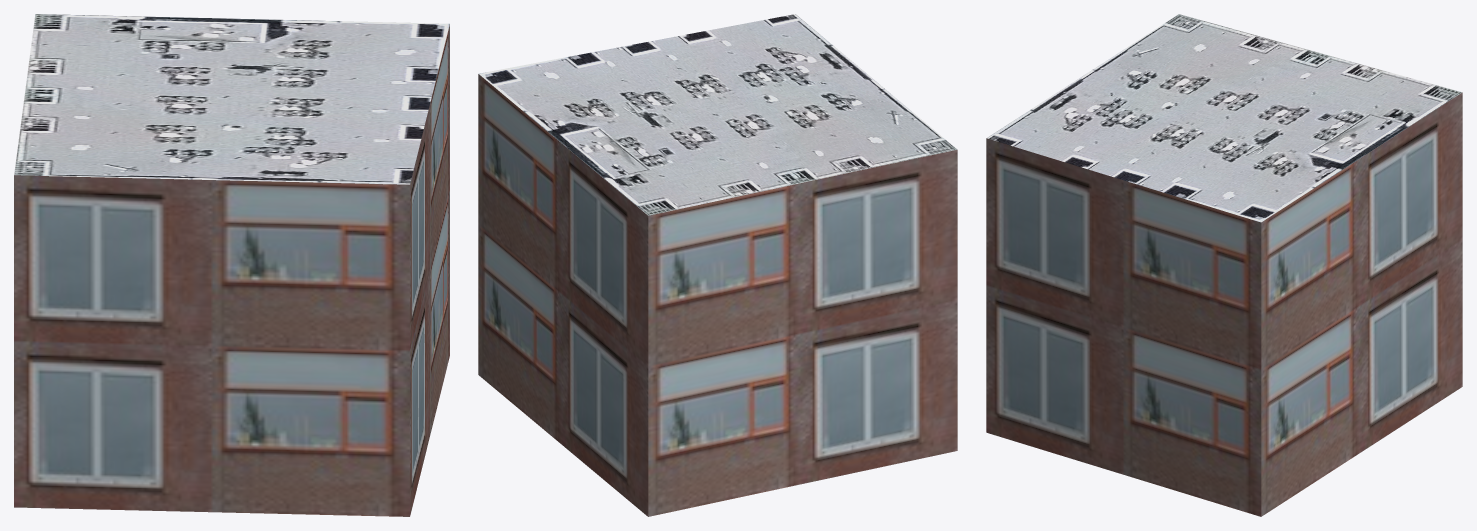
The model's file is ResTex__2253.fbx.
3 views of the same model, side by side, from view 1: azimuth 30°, elevation 25°; view 2: azimuth 150°, elevation 25°; view 3: azimuth 270°, elevation 25° (orthographic). The views are drawn at different scales.
Visible parts, largest first — view 1: CityEngineMaterial_19_m, CityEngineMaterial_15_m; view 2: CityEngineMaterial_19_m, CityEngineMaterial_15_m; view 3: CityEngineMaterial_19_m, CityEngineMaterial_15_m.
Part boxes in pixels (left/top/right/bottom): CityEngineMaterial_19_m: left=14, top=24, right=449, bottom=516; CityEngineMaterial_15_m: left=14, top=14, right=449, bottom=184; CityEngineMaterial_19_m: left=478, top=74, right=957, bottom=516; CityEngineMaterial_15_m: left=478, top=14, right=956, bottom=215; CityEngineMaterial_19_m: left=986, top=92, right=1462, bottom=516; CityEngineMaterial_15_m: left=986, top=14, right=1461, bottom=222.
Size of the model in its own units: 9.12 by 6 by 8.8.
Materials: 2 (2 with a texture image).
